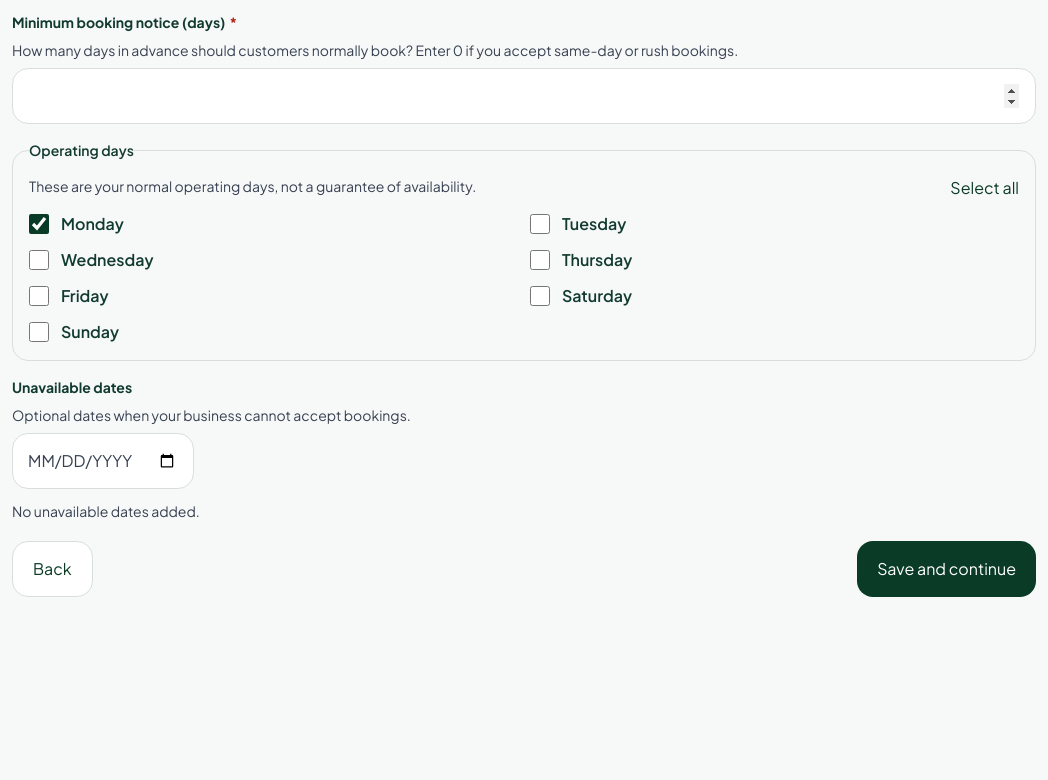
provider onboarding capacity › keeps missing notice blank through the loader (existing=false)
Click the button "Save and continue" at [947, 569], box [857,541,1036,597]
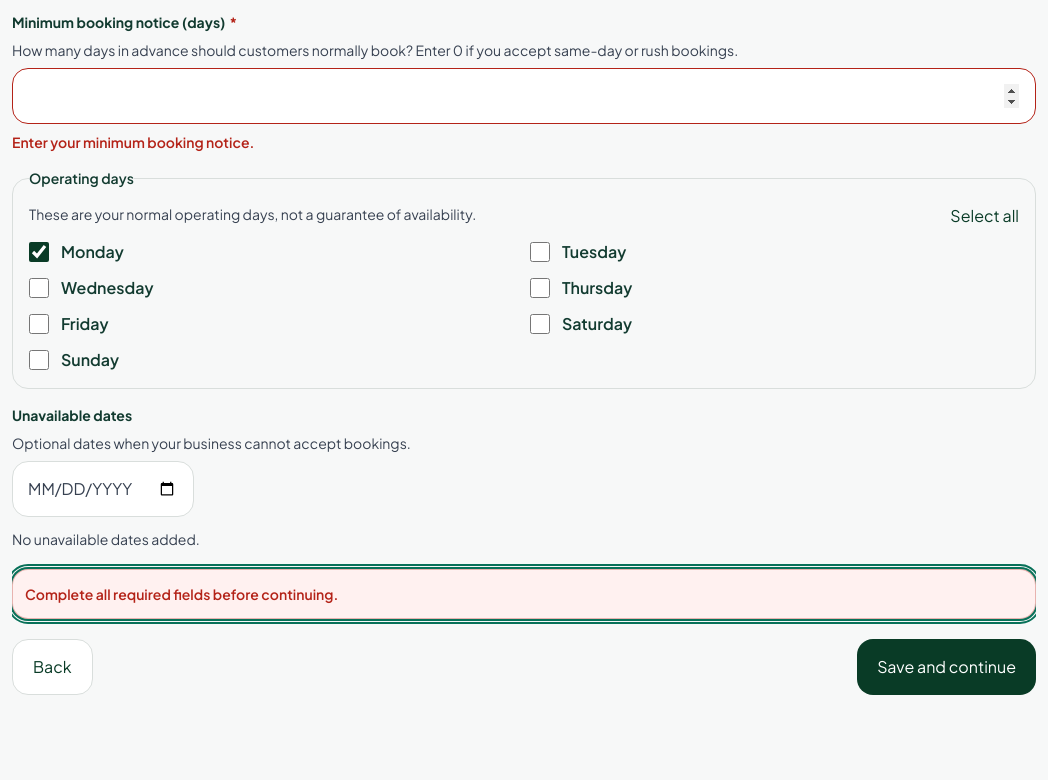
Expected: the text "Enter your minimum booking notice." is shown, [12,133,254,151]
